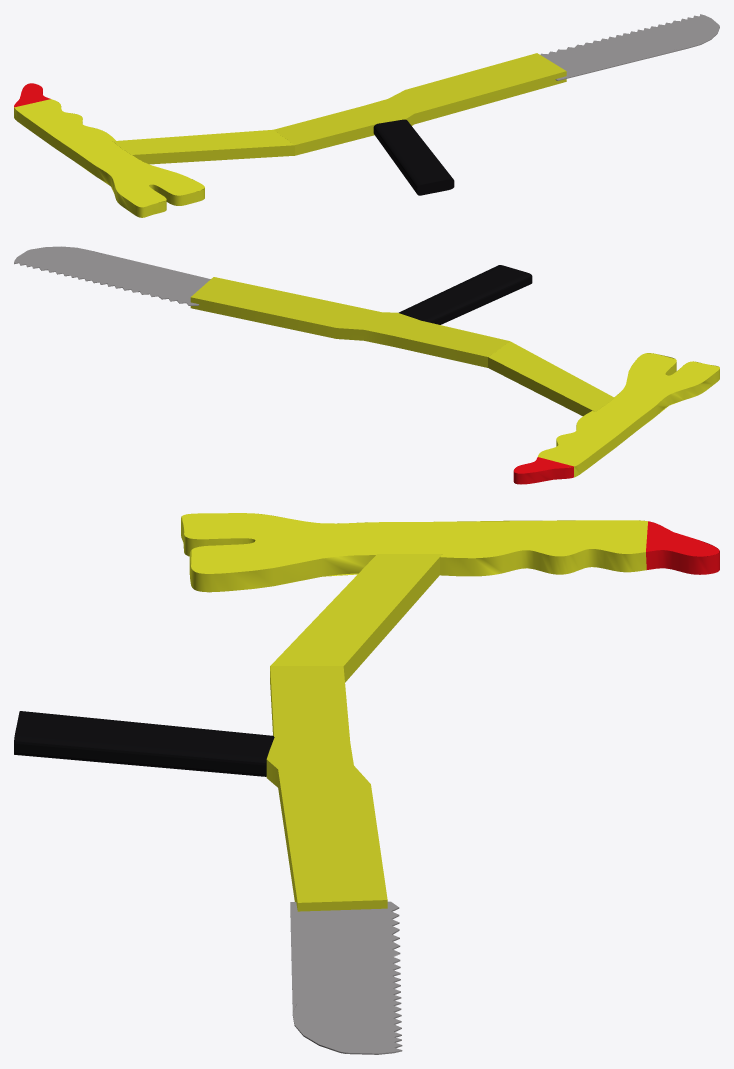
The model's file is GlassEx.FBX.
3 views of the same model, one above another, from view 1: azimuth 30°, elevation 25°; view 2: azimuth 150°, elevation 25°; view 3: azimuth 270°, elevation 25° (orthographic). The views are drawn at different scales.
Parts seen in each view (by area): view 1: Neck2; view 2: Neck2; view 3: Neck2.
Part boxes in pixels (<box>): Neck2: <box>14,14,719,217</box>; Neck2: <box>14,246,719,484</box>; Neck2: <box>14,513,719,1054</box>.
Bounding box in the file's own units: 32.59 × 0.5296 × 18.27.
